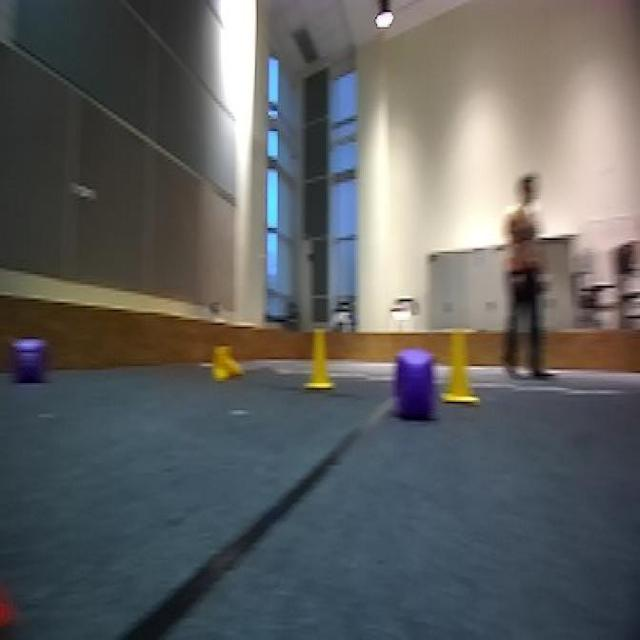frc_cone: (442, 332, 478, 408), (301, 325, 336, 390), (208, 340, 245, 383)
frc_cube: (395, 347, 438, 419), (14, 337, 42, 385)
